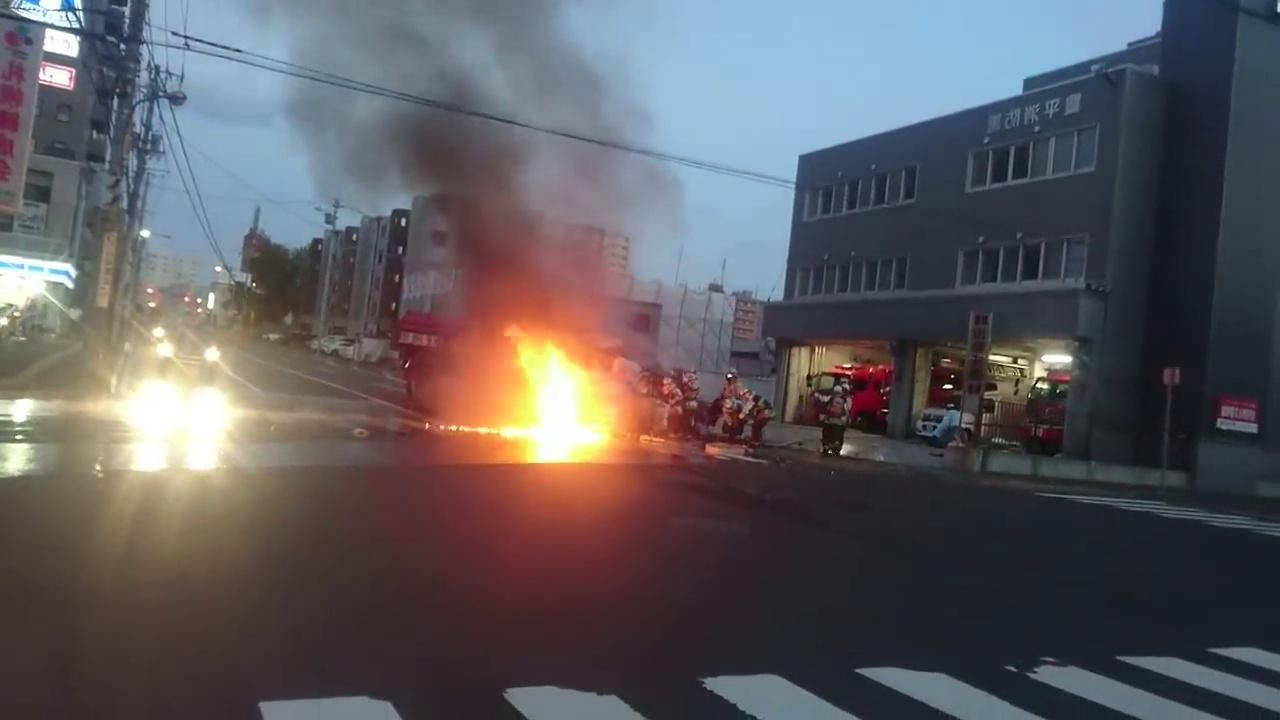Fire: (432, 332, 627, 444)
